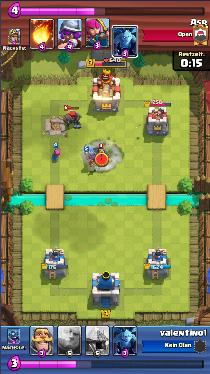ally_archer: (52, 149, 61, 161)
ally_musketeer: (83, 148, 98, 164)
enemy_hunter: (62, 111, 82, 130)
enemy_mini_pekka: (96, 149, 107, 160)
